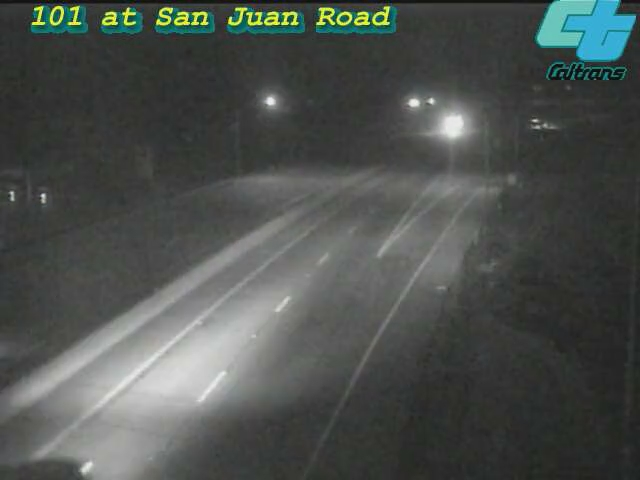vehicle: (1, 418, 88, 480), (425, 102, 475, 152), (513, 99, 563, 149)
